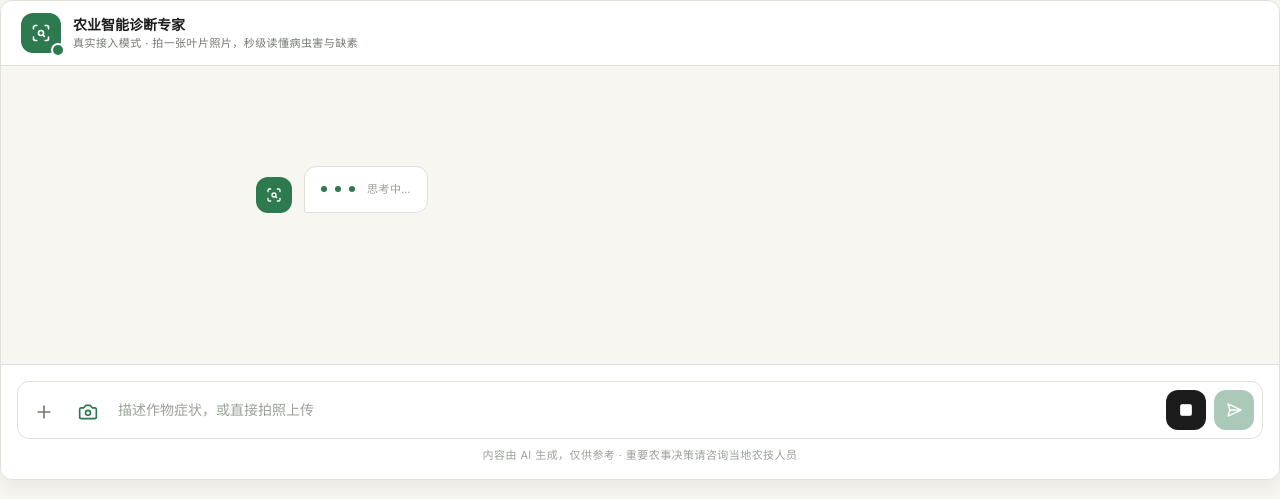
Test case: ChatInterface 思考态 › isThinking 时仍可发送，消息入队而非阻断
Step 1. Type "第二个问题" into the text box with placeholder "描述作物症状，或直接拍照上传" → {"x": 636, "y": 410}, box [114, 390, 1158, 430]
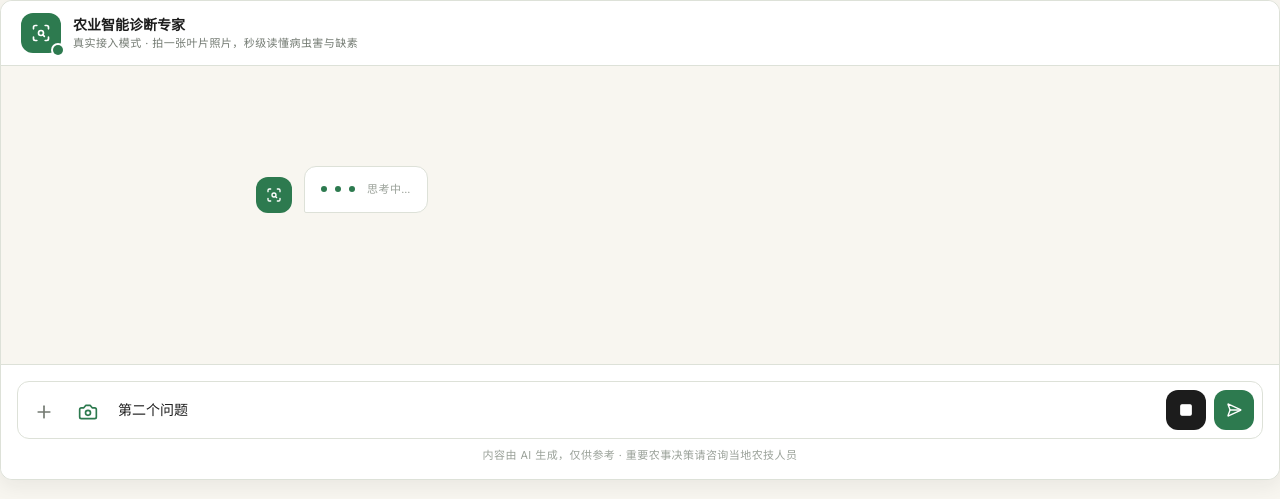
Check: the button named "发送消息" is enabled
Step 2. Click the button named "发送消息" → {"x": 1234, "y": 410}, box [1214, 390, 1254, 430]
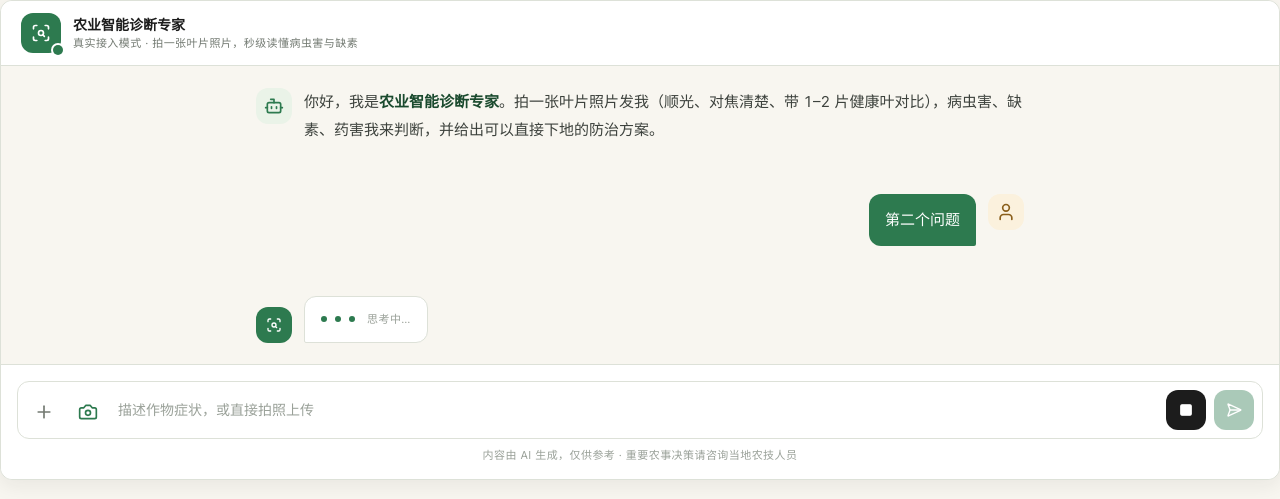
Check: the text "第二个问题" is shown, box [885, 206, 960, 234]
